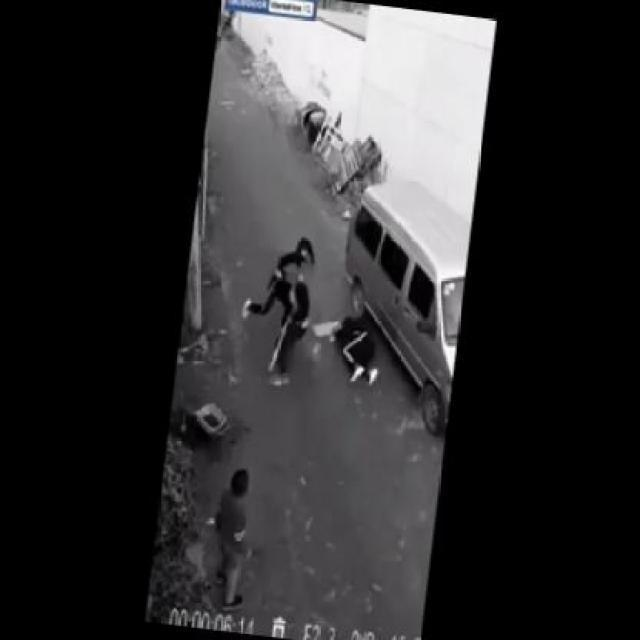fight: (232, 220, 323, 394)
non-fight: (200, 464, 268, 610)
